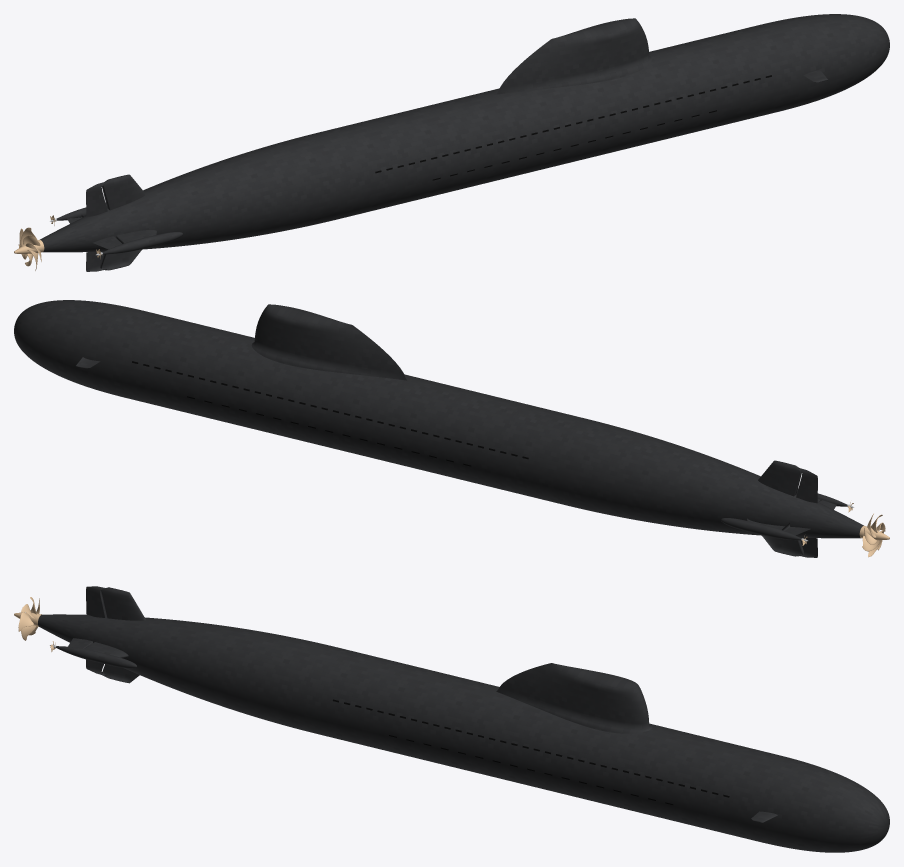
Rendered from k278-komsomolec.glb.
3 renders of one model, top to bottom at view 1: azimuth 30°, elevation 25°; view 2: azimuth 150°, elevation 25°; view 3: azimuth 330°, elevation 25°, orthographic.
Parts seen in each view (by area): view 1: korpus, ograzhdenie, kil_verh, shpigaty, kapsula_-1, rul_napr_verh, vint_glavnyj; view 2: korpus, ograzhdenie, kil_verh, shpigaty, kapsula_1, rul_napr_verh, vint_glavnyj; view 3: korpus, ograzhdenie, kil_verh, shpigaty, kapsula_-1, rul_napr_verh.
Boxes of the visible parts, x1,y1,x2,y2 form: korpus: [40, 14, 889, 252]; ograzhdenie: [496, 18, 652, 94]; kil_verh: [102, 174, 145, 210]; shpigaty: [375, 75, 771, 180]; kapsula_-1: [102, 232, 182, 254]; rul_napr_verh: [86, 182, 107, 217]; vint_glavnyj: [18, 227, 41, 270]; korpus: [14, 300, 863, 538]; ograzhdenie: [251, 304, 407, 380]; kil_verh: [758, 460, 801, 496]; shpigaty: [132, 361, 528, 466]; kapsula_1: [721, 518, 801, 540]; rul_napr_verh: [796, 468, 817, 503]; vint_glavnyj: [862, 513, 885, 557]; korpus: [38, 614, 889, 852]; ograzhdenie: [496, 663, 652, 733]; kil_verh: [101, 587, 145, 620]; shpigaty: [333, 699, 729, 804]; kapsula_-1: [56, 646, 136, 668]; rul_napr_verh: [86, 586, 106, 617].
Bounding box in the file's own units: 121 × 16.35 × 15.76.
Materials: 4 (1 with a texture image).
